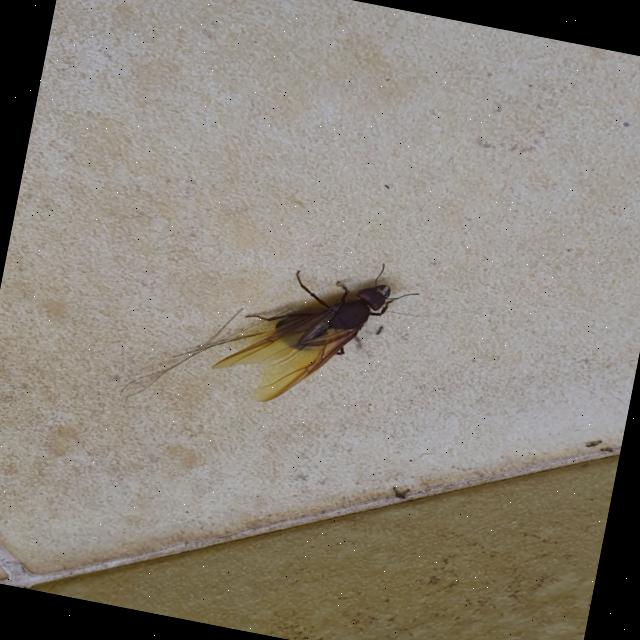Alive-Female-Alate: (206, 235, 424, 429)
